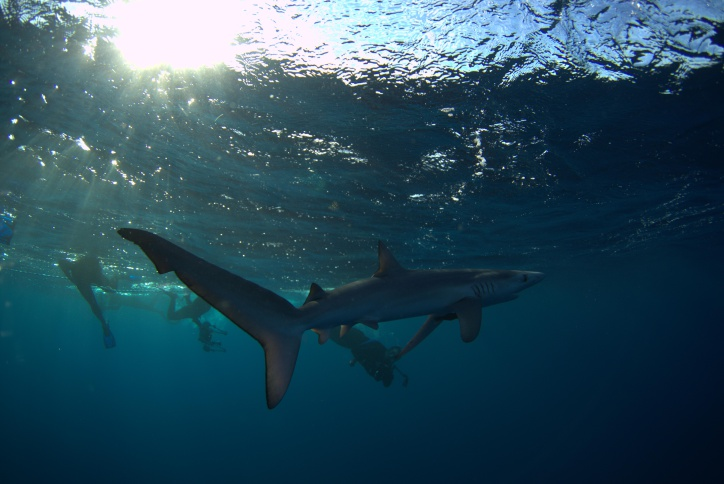Azul: (115, 207, 563, 427)
